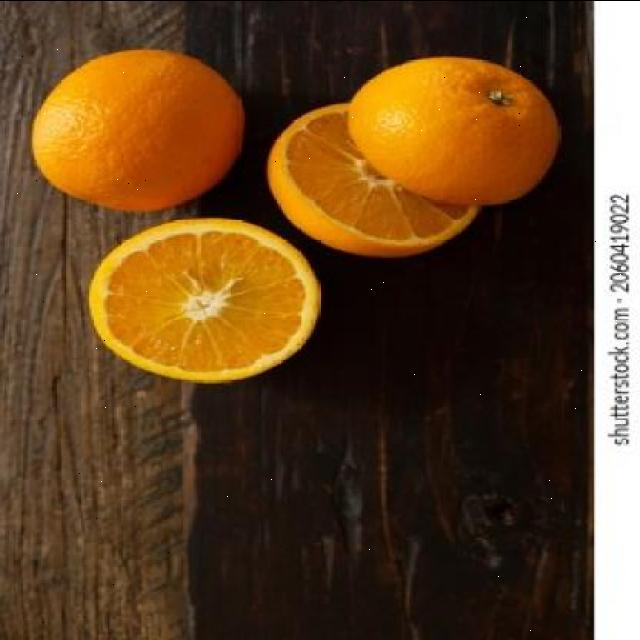Orange: (86, 217, 320, 385), (28, 48, 244, 212), (264, 102, 480, 258), (344, 56, 560, 206)
